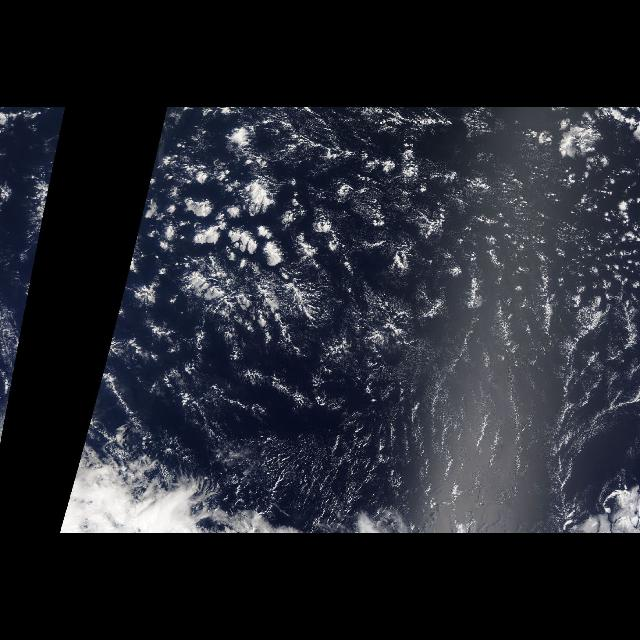Flower: (148, 119, 314, 273)
Sugar: (276, 308, 576, 532)
